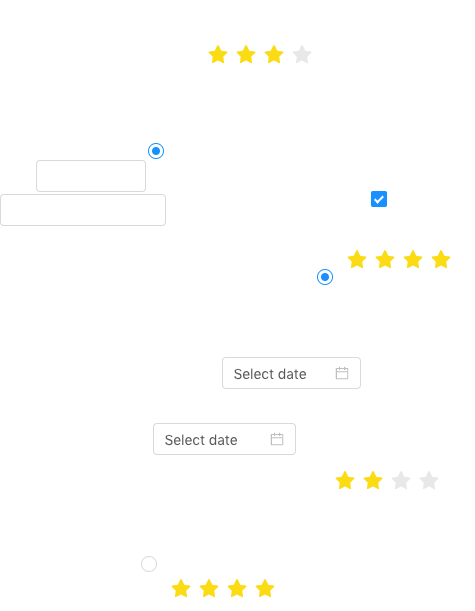Checkbox: (371, 188, 387, 209)
DatePicker: (153, 423, 296, 455), (222, 357, 361, 389)
Input: (0, 194, 166, 226), (36, 160, 146, 192)
Radio: (148, 140, 164, 160), (317, 266, 333, 286), (141, 553, 157, 573)
Rate: (171, 572, 291, 604), (208, 38, 328, 70), (347, 243, 467, 275), (335, 464, 455, 496)
